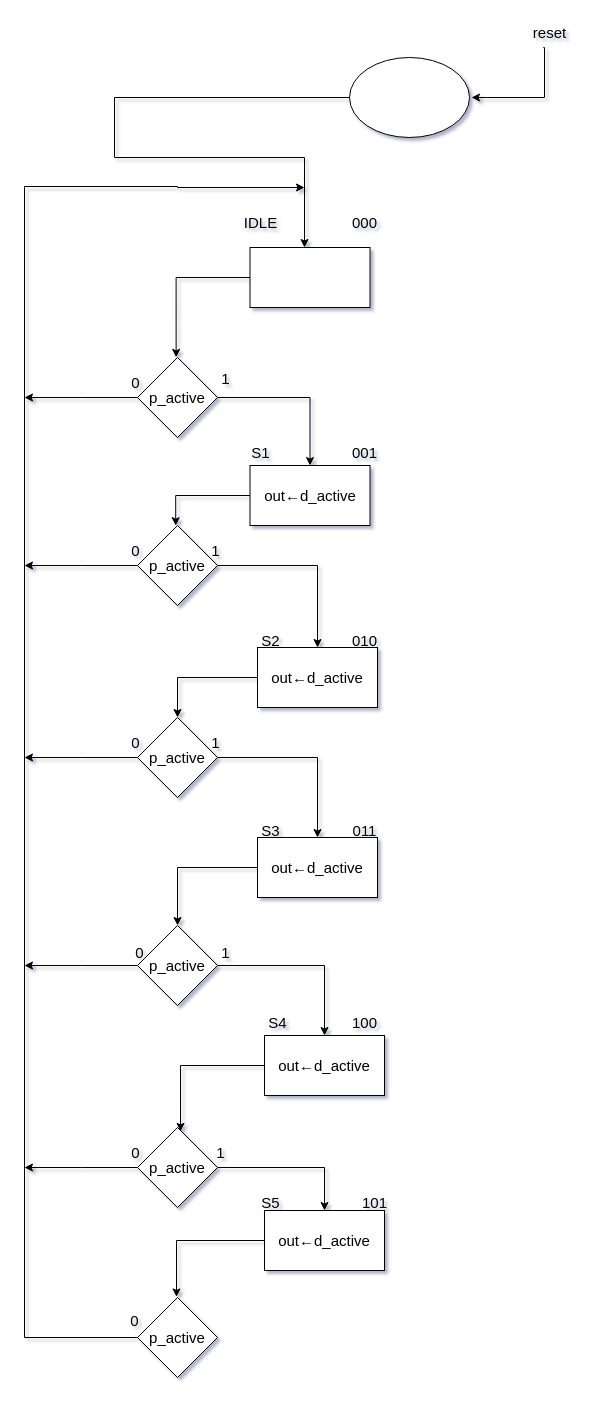
Image size: 603x1401. Some labels were removed from this diagram. Here are the shapes that lost their labels. From the top down, the centre of each, then its label:
At pixel 409 97: "period ← 0, dutyFrac ← 0,".
At pixel 309 277: "out ← 0".
